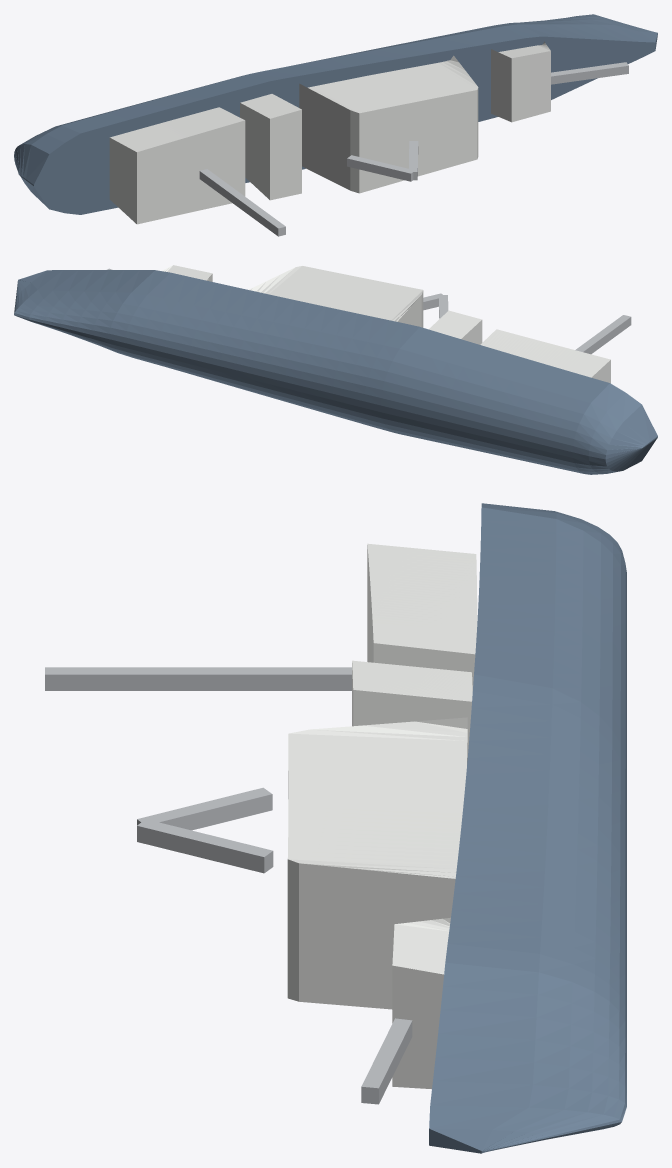
File: loft-warship-slender.glb
3 renders of one model, top to bottom at view 1: azimuth 30°, elevation 25°; view 2: azimuth 150°, elevation 25°; view 3: azimuth 270°, elevation 25°, orthographic. The views are drawn at different scales.
Parts seen in each view (by area): view 1: loft-warship-slender; view 2: loft-warship-slender; view 3: loft-warship-slender.
Part boxes in pixels (x1=…): loft-warship-slender: x1=14, y1=14, x2=657, y2=236; loft-warship-slender: x1=14, y1=265, x2=657, y2=474; loft-warship-slender: x1=45, y1=503, x2=626, y2=1153.
Bounding box in the file's own units: 1.93 × 0.2875 × 0.7796.
